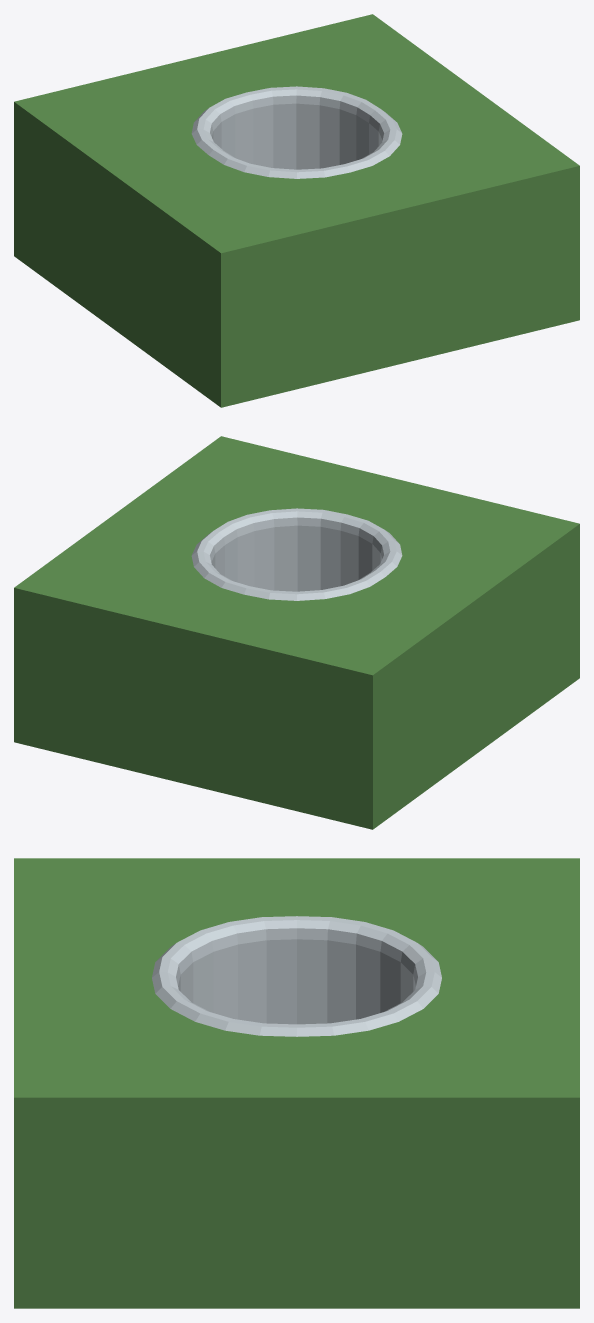
Rendered from PlatformFix.fbx.
3 views of the same model, one above another, from view 1: azimuth 30°, elevation 25°; view 2: azimuth 150°, elevation 25°; view 3: azimuth 270°, elevation 25° (orthographic). The views are drawn at different scales.
Parts seen in each view (by area): view 1: PlatBorderInwardsHoleSmaller; view 2: PlatBorderInwardsHoleSmaller; view 3: PlatBorderInwardsHoleSmaller.
Boxes of the visible parts, left/top/right/bottom form: PlatBorderInwardsHoleSmaller: left=14, top=14, right=579, bottom=407; PlatBorderInwardsHoleSmaller: left=14, top=436, right=579, bottom=829; PlatBorderInwardsHoleSmaller: left=14, top=858, right=579, bottom=1308.
Bounding box in the file's own units: 167 × 72.3 × 167.
